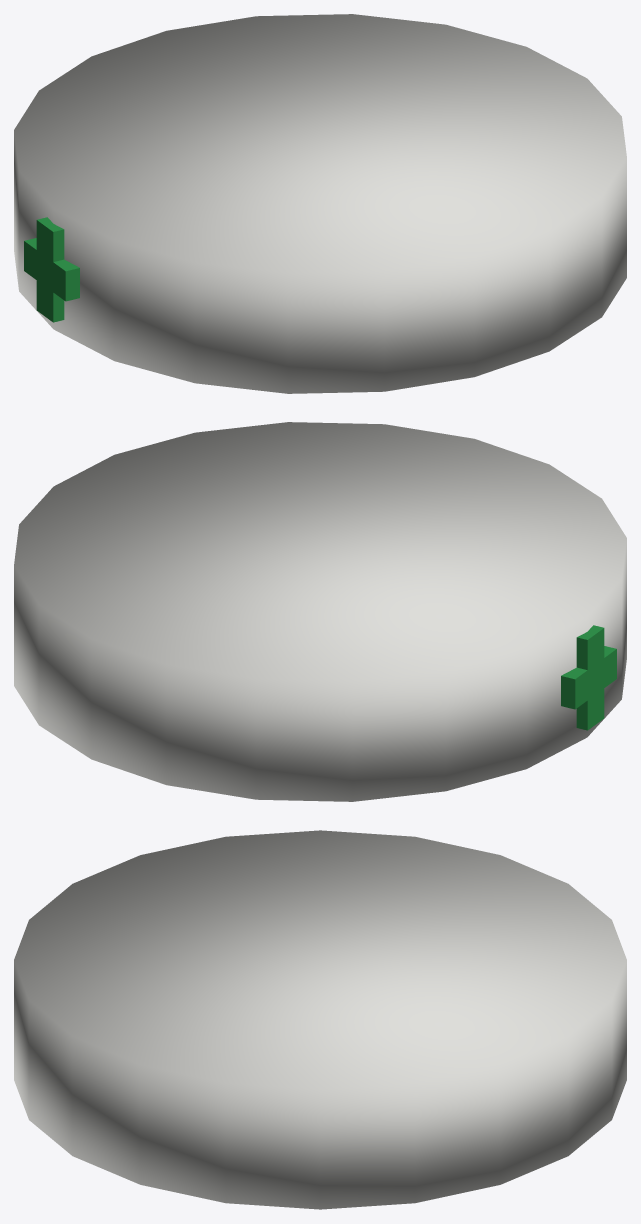
Rendered from Armband_medic.fbx.
3 renders of one model, top to bottom at view 1: azimuth 30°, elevation 25°; view 2: azimuth 150°, elevation 25°; view 3: azimuth 270°, elevation 25°, orthographic.
Parts seen in each view (by area): view 1: Band, CrossV, CrossH; view 2: Band, CrossV, CrossH; view 3: Band.
Part boxes in pixels (bbox=[...]): Band: bbox=[14, 14, 626, 393]; CrossV: bbox=[36, 217, 64, 322]; CrossH: bbox=[24, 238, 79, 301]; Band: bbox=[14, 422, 626, 801]; CrossV: bbox=[576, 625, 604, 730]; CrossH: bbox=[561, 646, 616, 709]; Band: bbox=[14, 830, 626, 1209].
Bounding box in the file's own units: 37.6 × 37 × 8.
